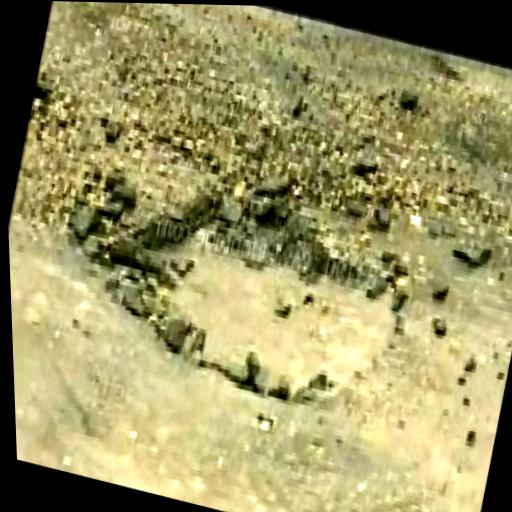pothole: (77, 156, 427, 429)
